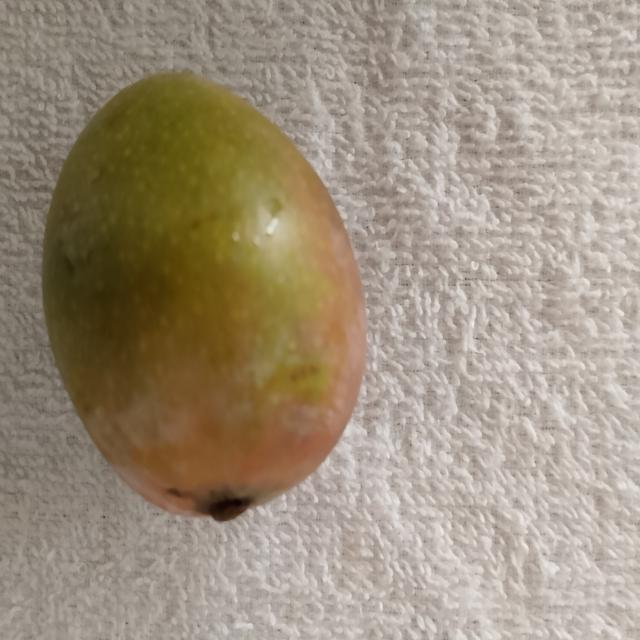mango: (43, 74, 365, 519)
